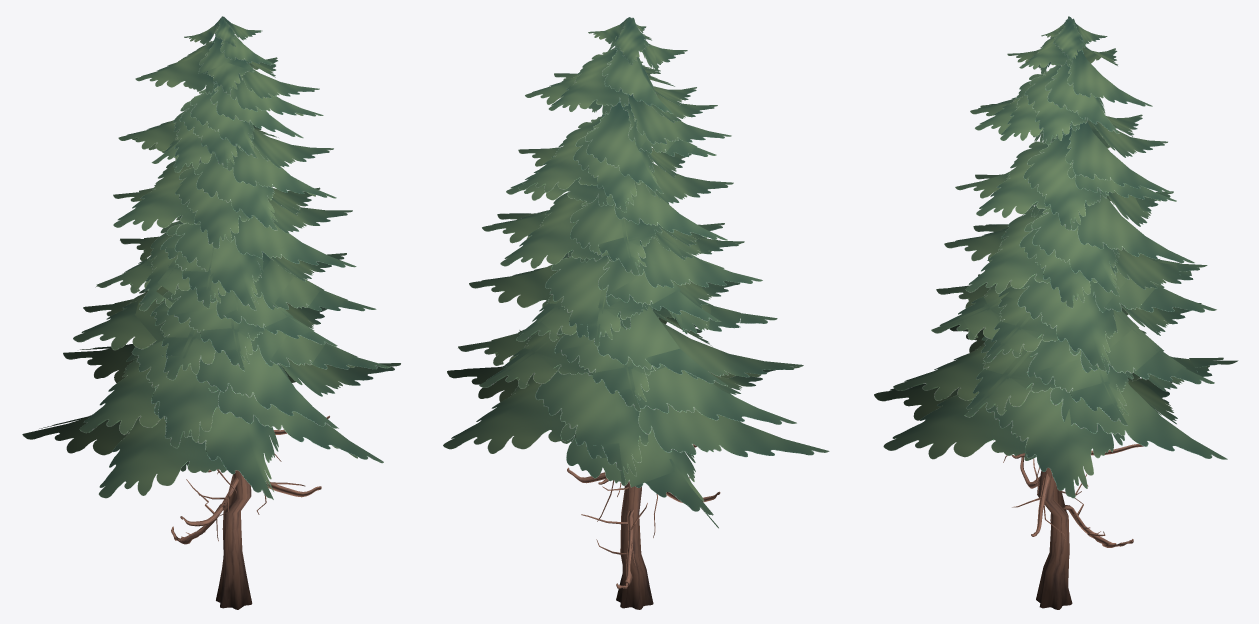
Rendered from Pine_4.glb.
3 views of the same model, side by side, from view 1: azimuth 30°, elevation 25°; view 2: azimuth 150°, elevation 25°; view 3: azimuth 270°, elevation 25° (orthographic).
Parts seen in each view (by area): view 1: Pine_4; view 2: Pine_4; view 3: Pine_4.
Boxes of the visible parts, bbox=[...] form: Pine_4: bbox=[22, 16, 400, 609]; Pine_4: bbox=[443, 17, 829, 609]; Pine_4: bbox=[874, 16, 1238, 609].
Size of the model in its own units: 6.49 by 10.29 by 6.02.
Materials: 2 (2 with a texture image).
